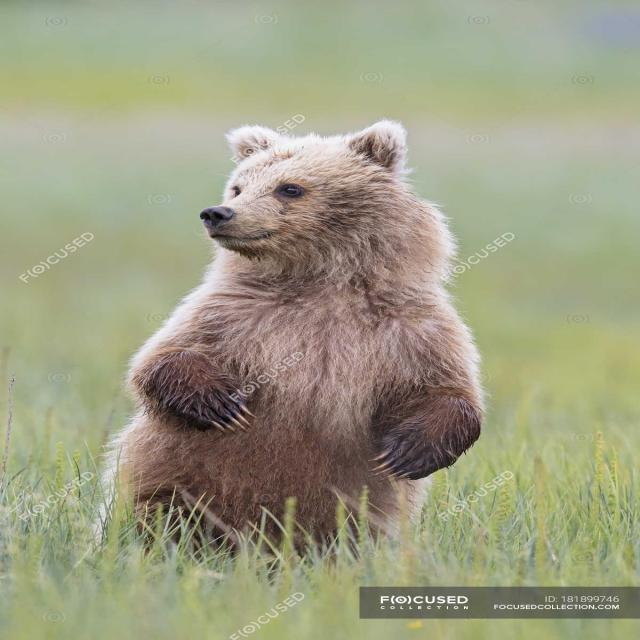Bear: (115, 119, 486, 553)
